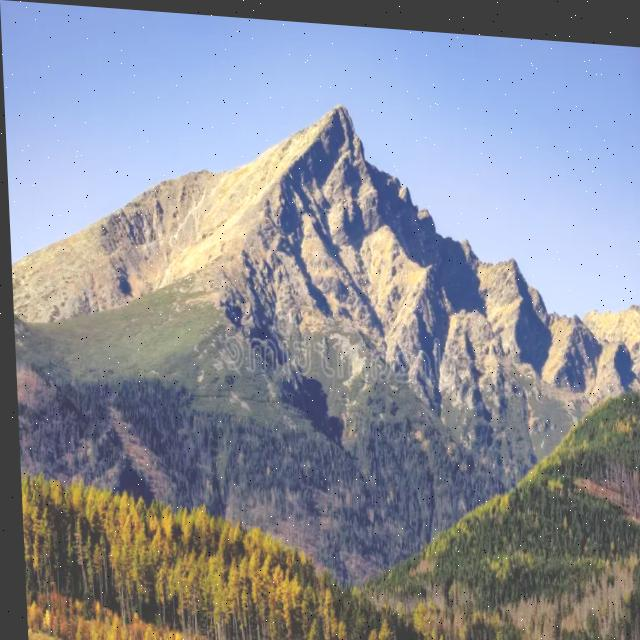Krivan: (232, 17, 450, 209)
